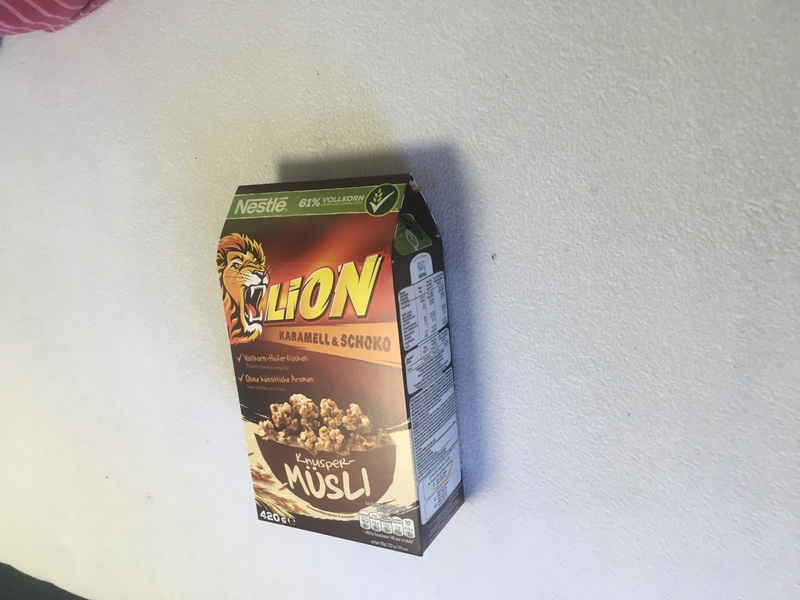cereals: (216, 172, 466, 556)
